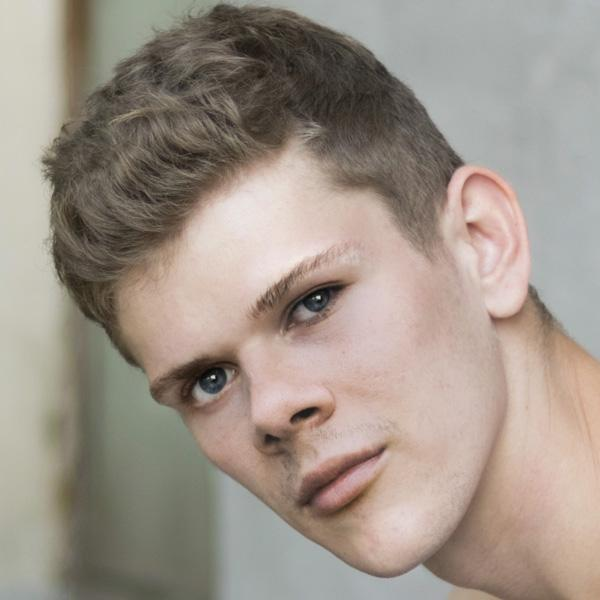Eyes: (272, 269, 354, 344), (178, 346, 248, 421)
